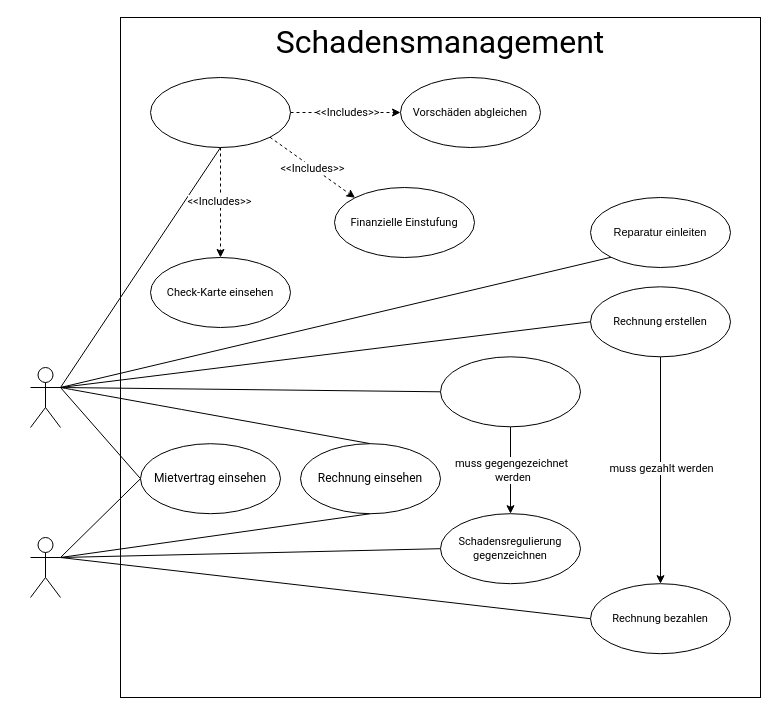
Some shapes in this 778 by 715 pixel diagram are drawn without their labels. Here are the shapes that lost their labels. From the top down, the centre of each, then its label:
At pixel 220 112: "Schaden identifizieren".
At pixel 45 397: "Mitarbeiter".
At pixel 510 391: "Schadensregulierung erstellen".
At pixel 45 567: "Kunde".
